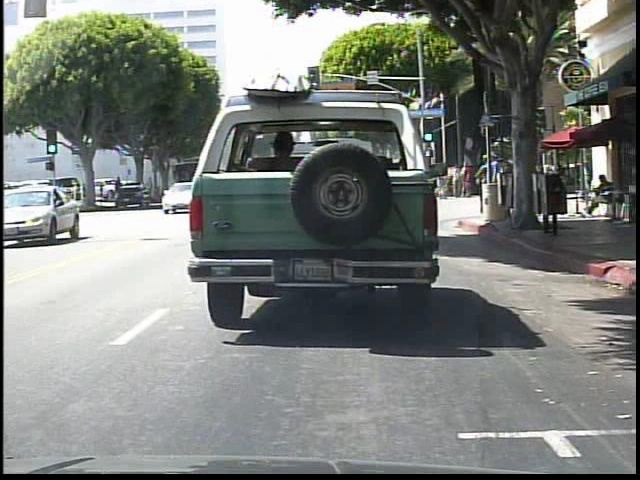person: (584, 170, 618, 216), (488, 152, 505, 214), (494, 157, 510, 214), (476, 156, 491, 213), (535, 163, 549, 206), (460, 160, 474, 199), (526, 166, 538, 204), (579, 161, 591, 198), (453, 164, 464, 198), (438, 166, 448, 200), (428, 173, 438, 202)
